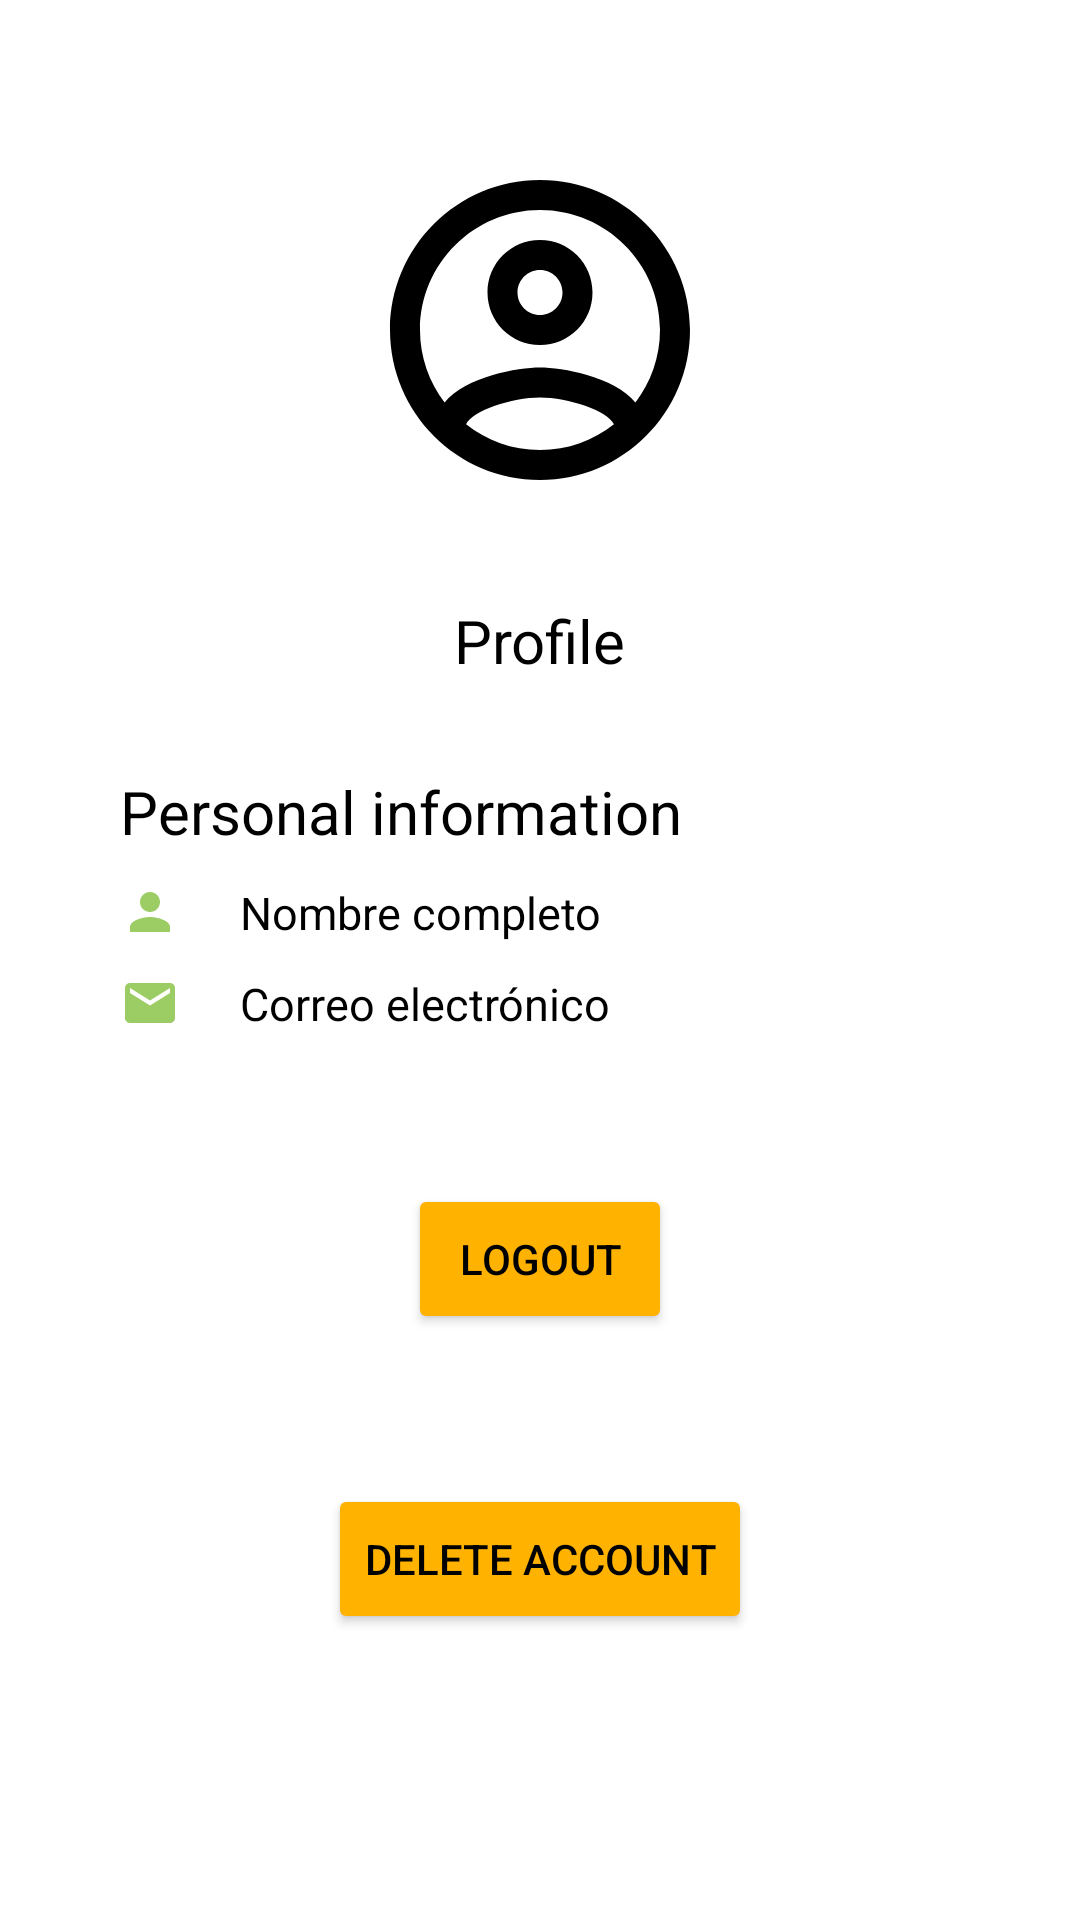

Named icons in this screenshot (1080 × 1920) and their bounding boxes, (x1=x1, y1=y1, x2=x2, y2=y2):
account circle: (x1=390, y1=180, x2=690, y2=480)
email: (x1=125, y1=983, x2=175, y2=1023)
